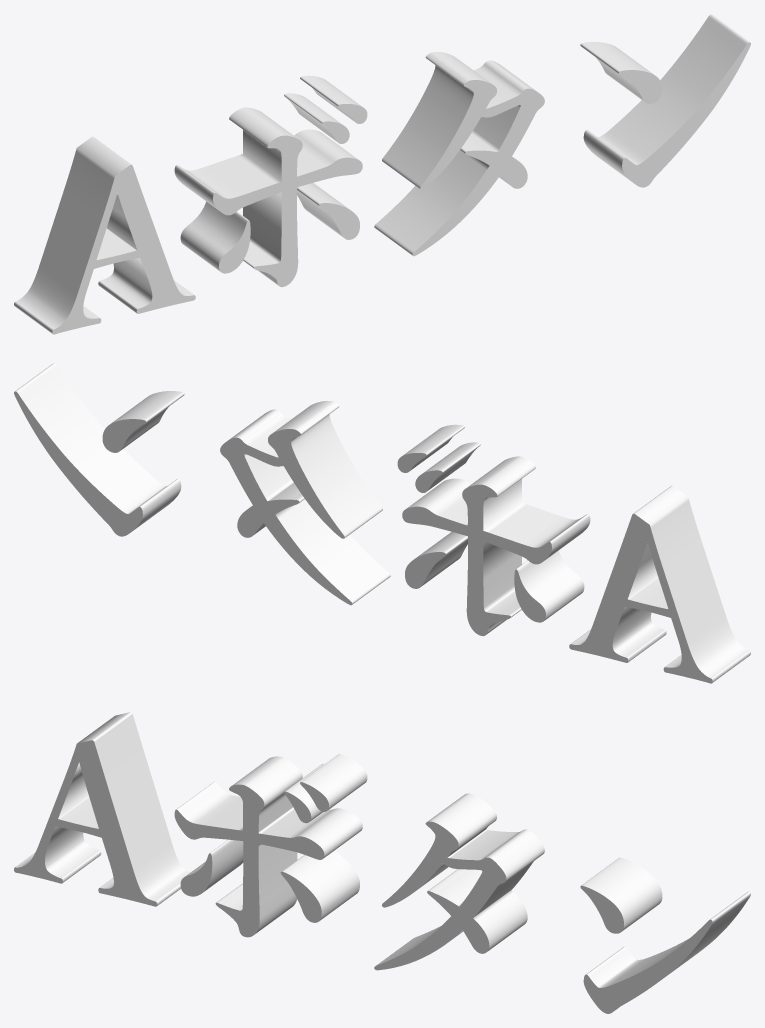
Rendered from ContorollerTutorial.obj.
The picture shows the model from 3 angles, top to bottom: view 1: azimuth 30°, elevation 25°; view 2: azimuth 150°, elevation 25°; view 3: azimuth 330°, elevation 25°; orthographic projection.
Parts seen in each view (by area): view 1: テキスト; view 2: テキスト; view 3: テキスト.
Part boxes in pixels (left/top/right/bottom): テキスト: left=14, top=14, right=750, bottom=334; テキスト: left=14, top=363, right=750, bottom=683; テキスト: left=14, top=712, right=750, bottom=1013.
Bounding box in the file's own units: 2.1 × 0.4883 × 0.2.
Materials: 1 (1 with a texture image).
